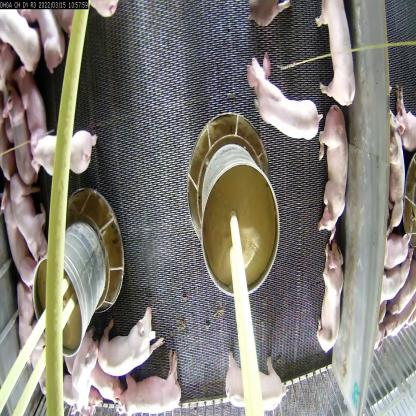Pig: (240, 53, 320, 138), (93, 304, 166, 389), (309, 108, 347, 240), (312, 0, 356, 113), (6, 167, 54, 267), (110, 359, 194, 415), (0, 185, 36, 315), (221, 346, 284, 415), (320, 244, 349, 368), (38, 122, 98, 179), (63, 333, 104, 415), (0, 2, 41, 72)
